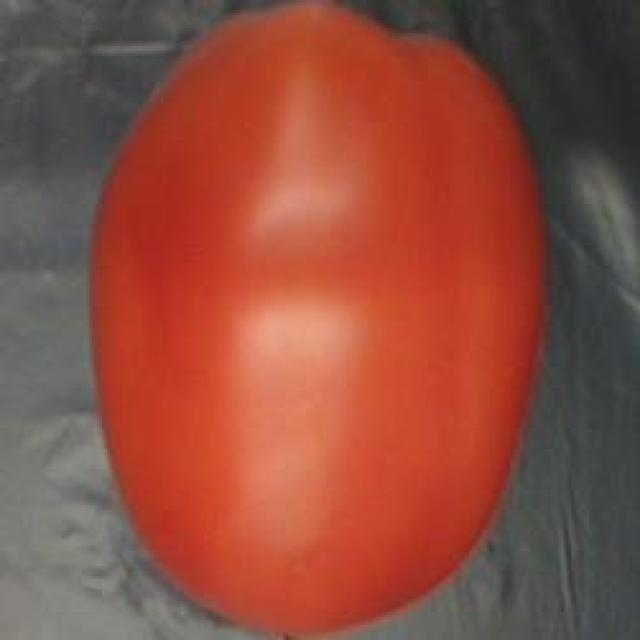ripe tomato: (79, 0, 566, 640)
